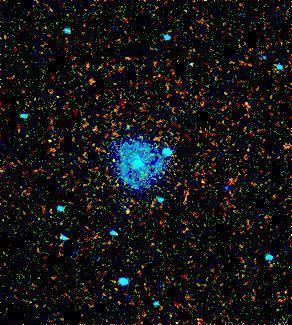star: (63, 242, 93, 272)
